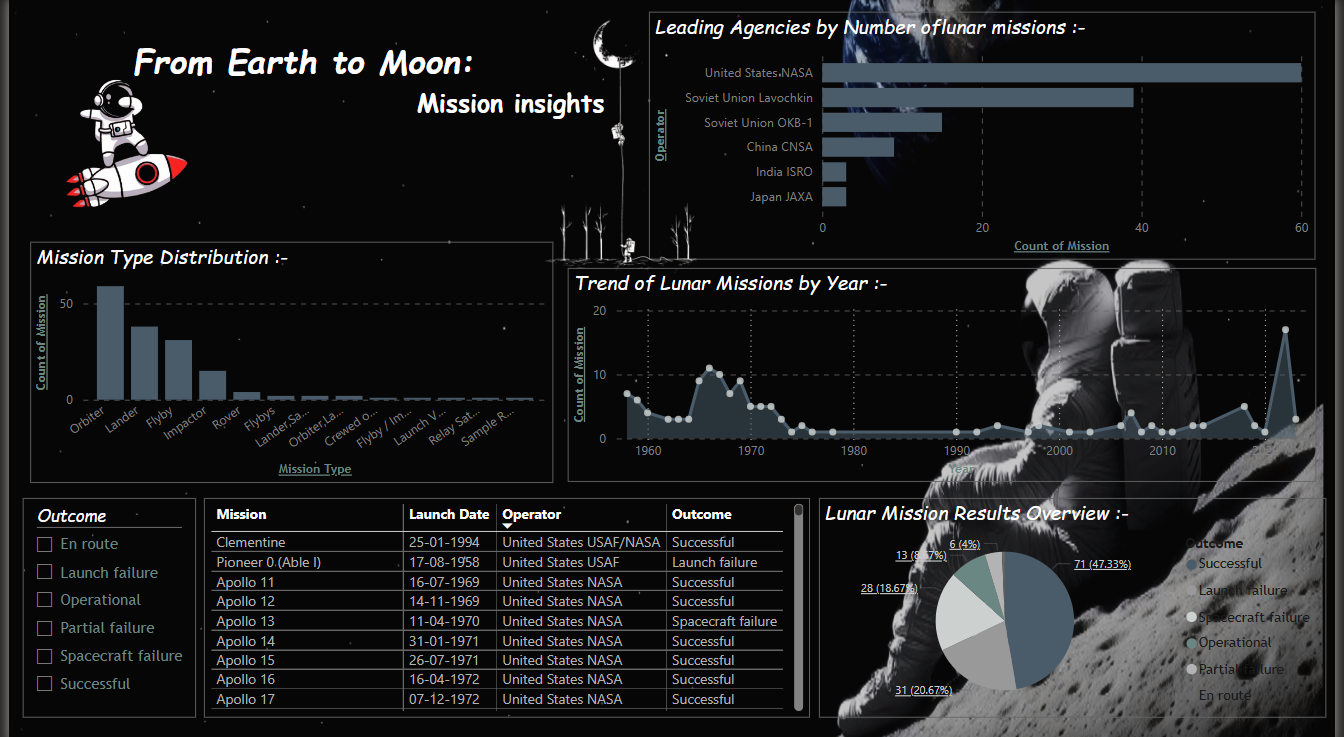

This screenshot's page, from the dashboard's own definition file:
{"tool":"powerbi","page":{"name":"Moonlanding","canvas":[1280,720],"ordinal":0},"visuals":[{"type":"clusteredBarChart","title":"Leading Agencies by Number oflunar missions :-","fields":{"Category":["skdb data set part 1 - moonlanding.Operator"],"Y":["Count(skdb data set part 1 - moonlanding.ï»¿Mission)"]},"box":[618.2,13,642.9,239],"z":0},{"type":"pieChart","title":"Lunar Mission Results Overview :-","fields":{"Category":["skdb data set part 1 - moonlanding.Outcome"],"Y":["Count(skdb data set part 1 - moonlanding.ï»¿Mission)"]},"box":[781.8,483.1,489.6,211.7],"z":1000},{"type":"lineChart","title":"Trend of Lunar Missions by Year :-","fields":{"Category":["skdb data set part 1 - moonlanding.Launch Date.Variation.Date Hierarchy.Year","skdb data set part 1 - moonlanding.Launch Date.Variation.Date Hierarchy.Month"],"Y":["Count(skdb data set part 1 - moonlanding.ï»¿Mission)"]},"box":[539,261,722.1,206.5],"z":2000},{"type":"clusteredColumnChart","title":"Mission Type Distribution :-","fields":{"Category":["skdb data set part 1 - moonlanding.Mission Type"],"Y":["CountNonNull(skdb data set part 1 - moonlanding.ï»¿Mission)"]},"box":[20.8,235.1,505.2,232.5],"z":3000},{"type":"slicer","fields":{"Values":["skdb data set part 1 - moonlanding.Outcome"]},"box":[13,483.1,167.5,211.7],"z":4000},{"type":"tableEx","fields":{"Values":["skdb data set part 1 - moonlanding.ï»¿Mission","skdb data set part 1 - moonlanding.Launch Date","skdb data set part 1 - moonlanding.Operator","skdb data set part 1 - moonlanding.Outcome"]},"box":[188.3,483.1,584.4,211.7],"z":5000},{"type":"image","box":[13,0,201.3,209.1],"z":6000},{"type":"textbox","box":[114.3,33.8,464.9,116.9],"z":7000},{"type":"image","box":[442.8,0,298,298],"z":8000}]}

Visuals, with their boxes in screenshot pixels (x1, y1, x2, y2), scaled from the page's 1280x720 canvas onto the 1344x737 screenshot:
"Leading Agencies by Number oflunar missions :-" clusteredBarChart: l=649, t=13, r=1324, b=258
"Lunar Mission Results Overview :-" pieChart: l=821, t=495, r=1335, b=711
"Trend of Lunar Missions by Year :-" lineChart: l=566, t=267, r=1324, b=479
"Mission Type Distribution :-" clusteredColumnChart: l=22, t=241, r=552, b=479
slicer - skdb data set part 1 - moonlanding.Outcome: l=14, t=495, r=190, b=711
tableEx - skdb data set part 1 - moonlanding.ï»¿Mission x skdb data set part 1 - moonlanding.Launch Date: l=198, t=495, r=811, b=711
image: l=14, t=0, r=225, b=214
textbox: l=120, t=35, r=608, b=154
image: l=465, t=0, r=778, b=305
